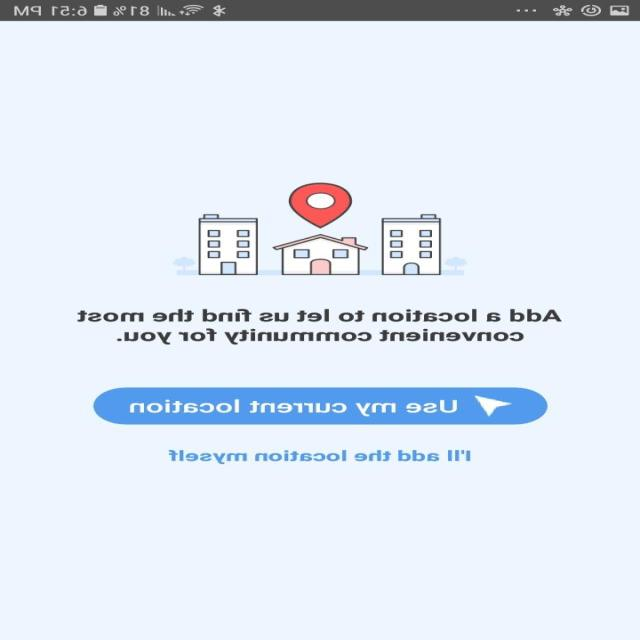Image: (172, 182, 468, 276)
Text: (77, 308, 563, 344), (169, 449, 471, 464)
TextButton: (94, 388, 548, 424)
